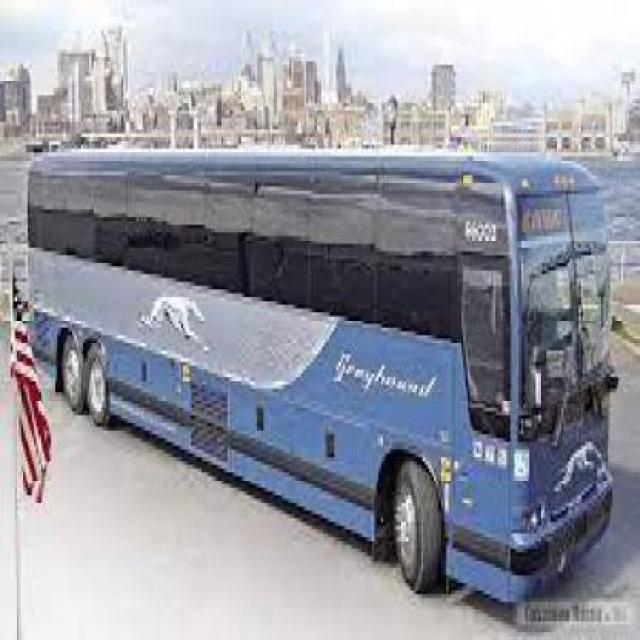bus: (29, 149, 613, 604)
